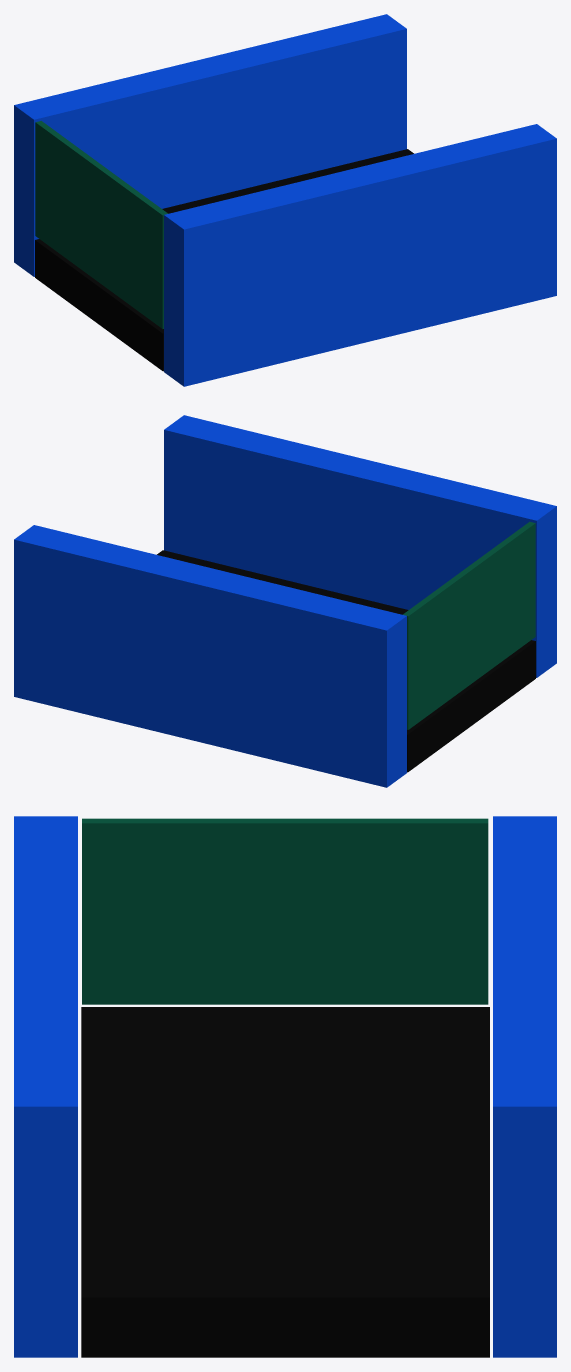
Rendered from tes.gltf.
3 renders of one model, top to bottom at view 1: azimuth 30°, elevation 25°; view 2: azimuth 150°, elevation 25°; view 3: azimuth 270°, elevation 25°, orthographic. The views are drawn at different scales.
Parts seen in each view (by area): view 1: Cube.003; view 2: Cube.003; view 3: Cube.003.
Boxes of the visible parts, x1=… form: Cube.003: x1=14, y1=14, x2=556, y2=386; Cube.003: x1=14, y1=415, x2=556, y2=787; Cube.003: x1=14, y1=816, x2=556, y2=1357.
Size of the model in its own units: 5.29 by 2.13 by 4.18.
